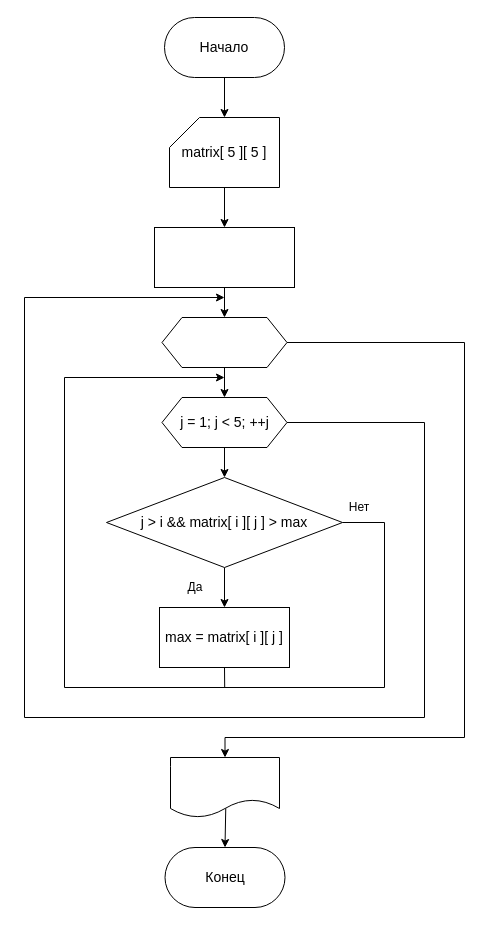
Some shapes in this 490 by 925 pixel diagram are drawn without their labels. Here are the shapes that lost their labels. From the top down, the centre of each, then its label:
pixel 224 257: max = MIN_INT_32
pixel 224 342: i = 1; i < 5; ++i
pixel 225 787: min
